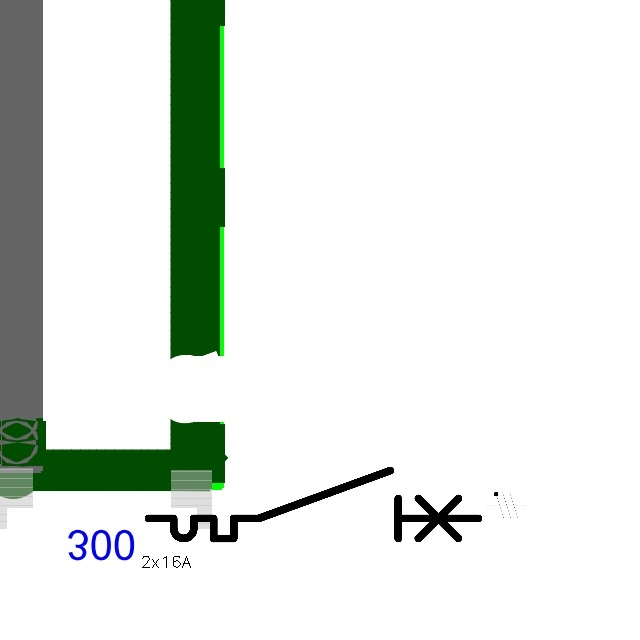interruptor_termomagnetico: (140, 462, 486, 547)
